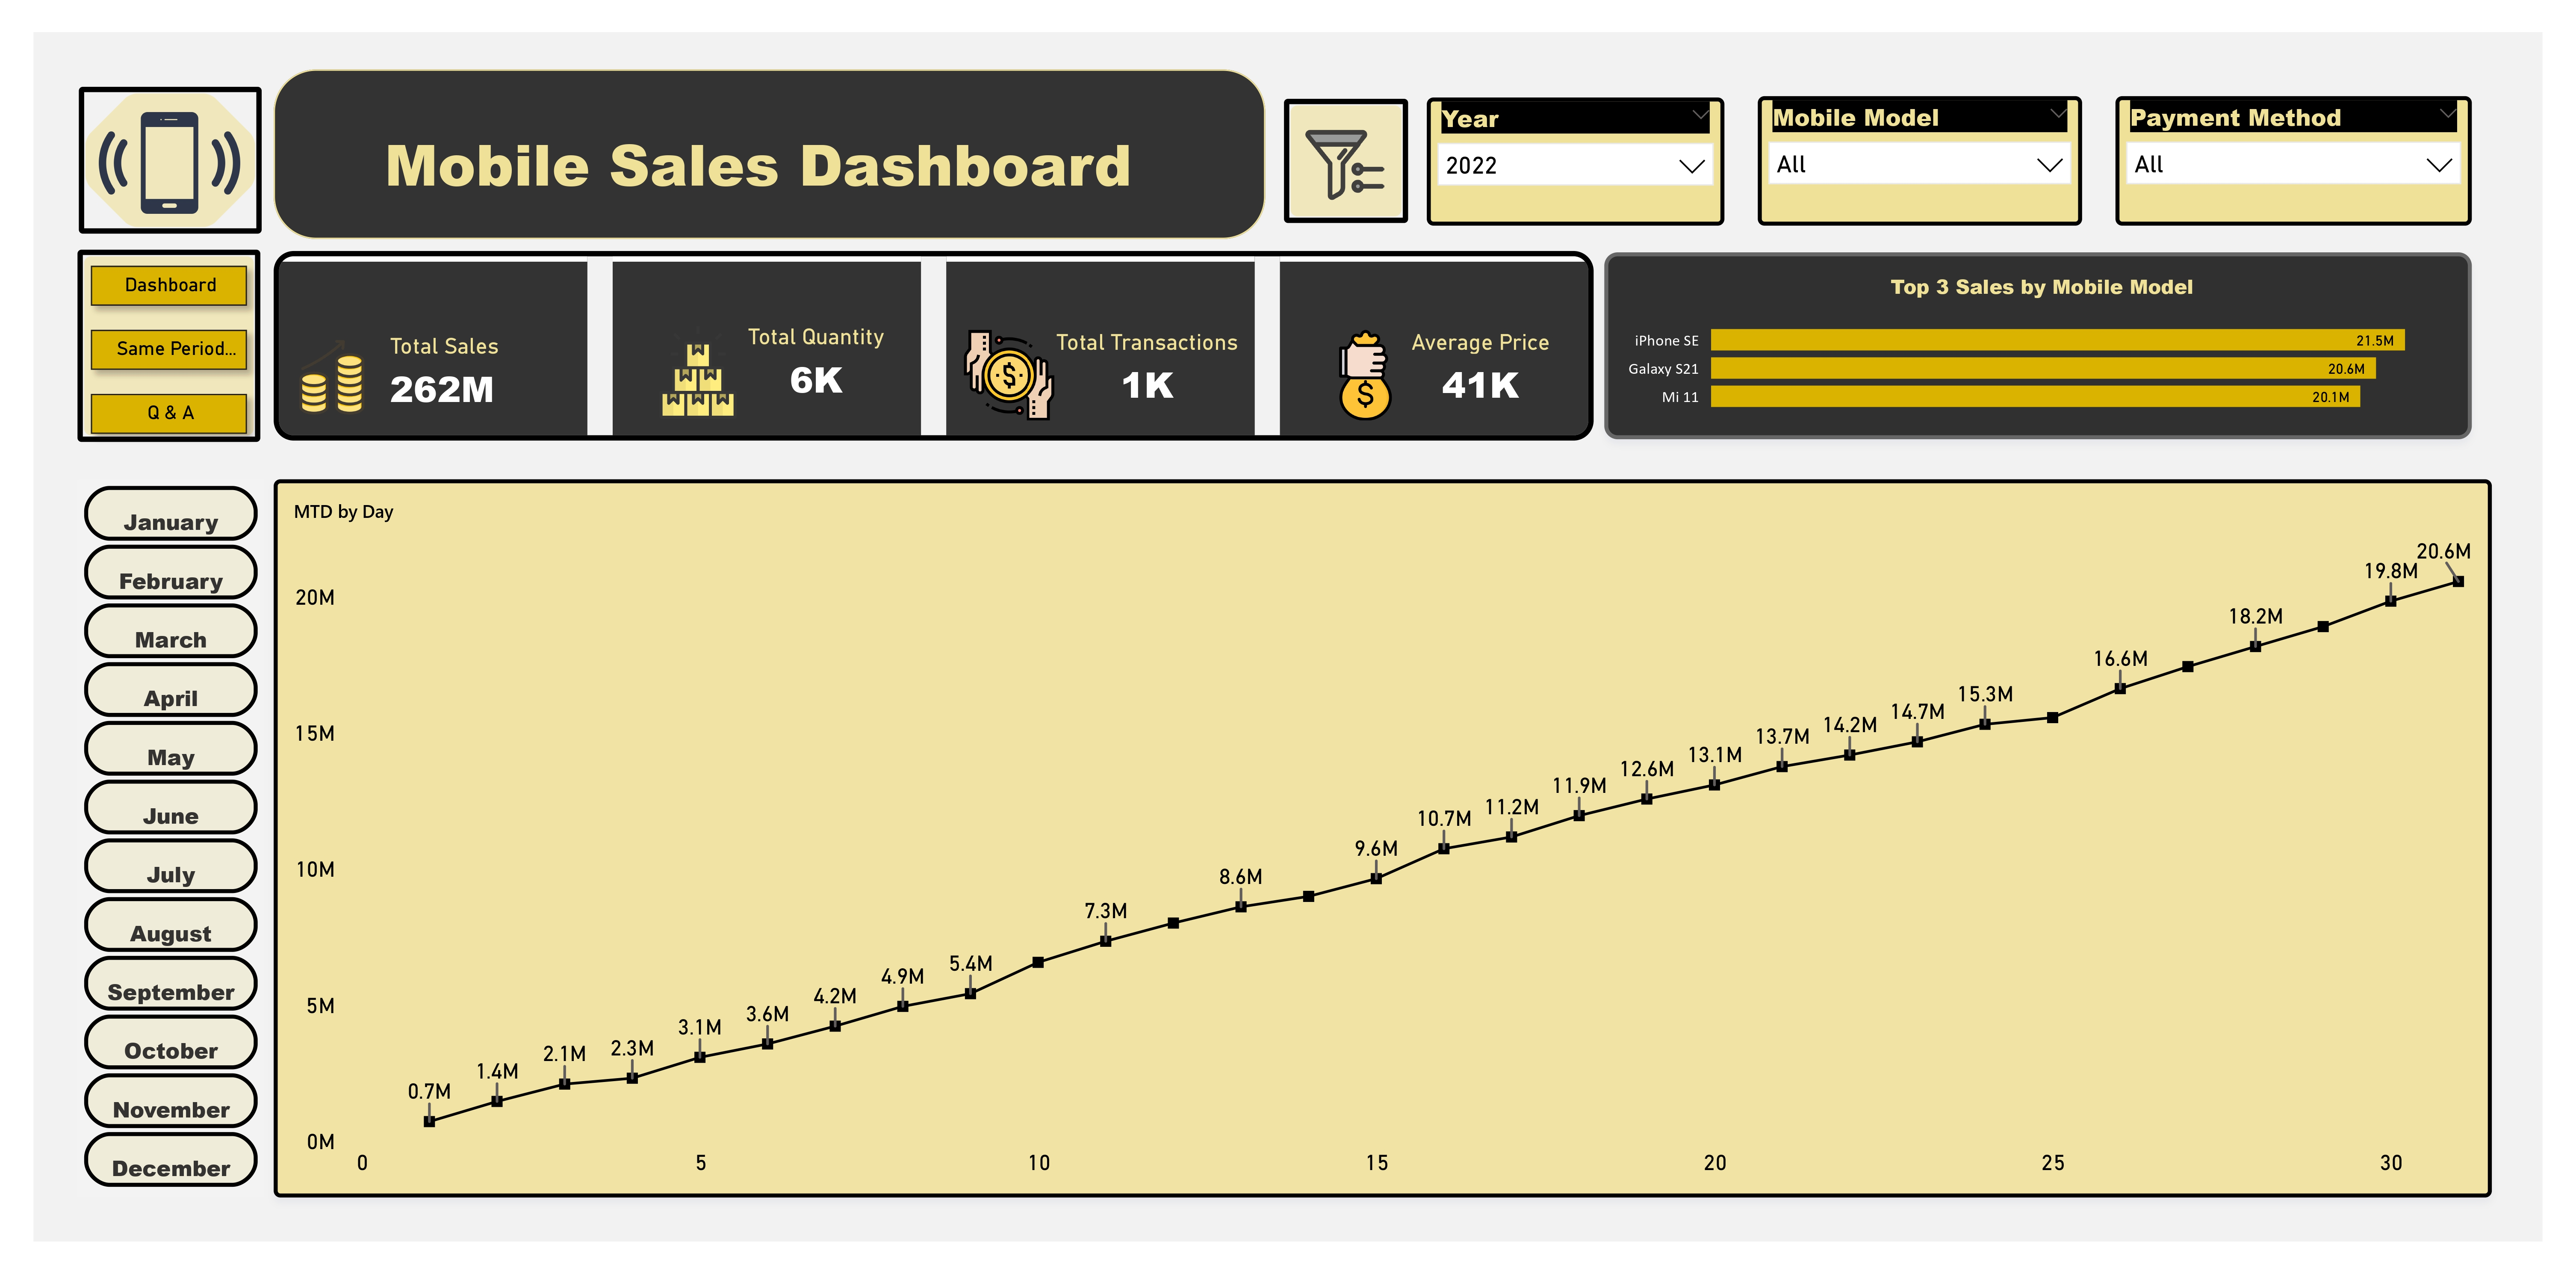

What the dashboard file says about the page in this screenshot:
{"tool":"powerbi","page":{"name":"MTD,QTD,YTD","canvas":[1880,906],"ordinal":1},"visuals":[{"type":"shape","box":[34.3,41.4,137.1,110],"z":0},{"type":"image","box":[44.3,48.6,115.7,97.1],"z":1000},{"type":"shape","box":[936.7,50,93.3,93.3],"z":2000},{"type":"shape","box":[180,28.3,743.3,126.7],"z":3000},{"type":"textbox","box":[223.3,63.3,640,81.7],"z":4000},{"type":"cardVisual","fields":{"Data":["sales_data.Total Amount","sales_data.Total Quantity","sales_data.Total Transactions","sales_data.Average Price"]},"box":[180,164.3,988.6,141.4],"z":5000},{"type":"slicer","fields":{"Values":["sales_data.Payment Method"]},"box":[1560.3,48.3,266.7,96.7],"z":6000},{"type":"slicer","fields":{"Values":["custom calendar.custom date.Variation.Date Hierarchy.Year"]},"box":[1043.8,48.5,223.3,96.7],"z":7000},{"type":"slicer","fields":{"Values":["sales_data.Mobile Model"]},"box":[1292,48.3,243.3,96.7],"z":8000},{"type":"image","box":[948.3,61.7,68.3,75],"z":9000},{"type":"shape","box":[32.9,162.9,137.1,144.3],"z":10000},{"type":"clusteredBarChart","title":"Top 3 Sales by Mobile Model","fields":{"Category":["sales_data.Mobile Model"],"Y":["sales_data.Total Sales"]},"box":[1176.7,165,650,140],"z":11000},{"type":"lineChart","fields":{"Category":["custom calendar.custom date.Variation.Date Hierarchy.Day"],"Y":["custom calendar.MTD"]},"box":[180,335,1661.7,538.3],"z":12000},{"type":"advancedSlicerVisual","fields":{"Values":["custom calendar.custom date.Variation.Date Hierarchy.Month"]},"box":[33.3,335,140,538.3],"z":13000},{"type":"pageNavigator","box":[34,166,135,144],"z":14000}]}

Visuals, with their boxes in screenshot pixels (x1, y1, x2, y2):
shape: [left=78, top=87, right=261, bottom=234]
image: [left=91, top=97, right=246, bottom=227]
shape: [left=1284, top=99, right=1408, bottom=223]
shape: [left=273, top=70, right=1266, bottom=239]
textbox: [left=330, top=117, right=1186, bottom=226]
cardVisual - sales_data.Total Amount x sales_data.Total Quantity: [left=273, top=251, right=1593, bottom=440]
slicer - sales_data.Payment Method: [left=2117, top=97, right=2473, bottom=226]
slicer - custom calendar.custom date.Variation.Date Hierarchy.Year: [left=1427, top=97, right=1725, bottom=226]
slicer - sales_data.Mobile Model: [left=1758, top=97, right=2083, bottom=226]
image: [left=1299, top=115, right=1390, bottom=215]
shape: [left=76, top=250, right=259, bottom=442]
"Top 3 Sales by Mobile Model" clusteredBarChart: [left=1604, top=252, right=2473, bottom=439]
lineChart - custom calendar.custom date.Variation.Date Hierarchy.Day x custom calendar.MTD: [left=273, top=479, right=2493, bottom=1198]
advancedSlicerVisual - custom calendar.custom date.Variation.Date Hierarchy.Month: [left=77, top=479, right=264, bottom=1198]
pageNavigator: [left=77, top=254, right=258, bottom=446]
